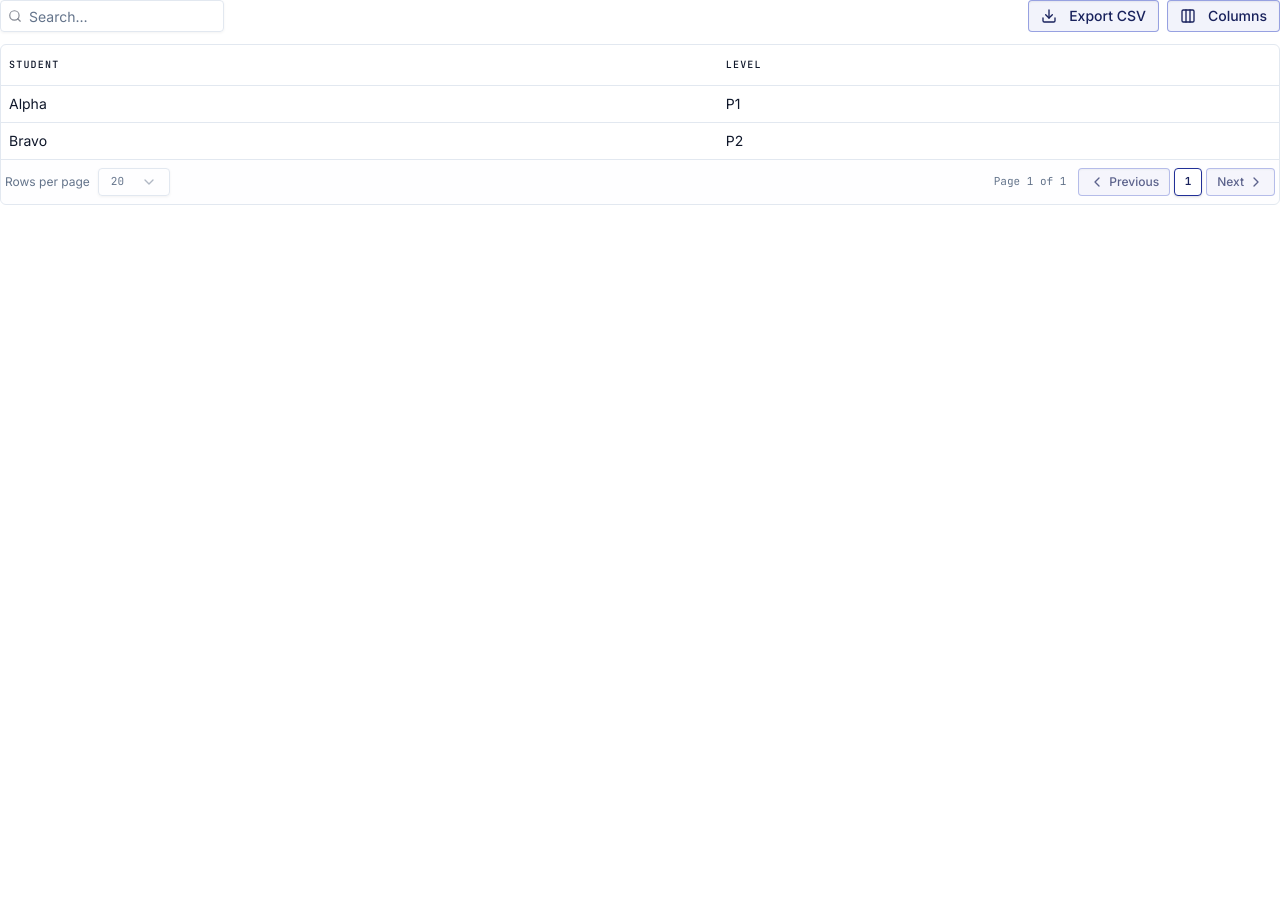
advanced export is opt-in › opens the advanced sheet only when csv.advanced is set
The width and height of the screenshot is (1280, 900).
Click the button "Export CSV": (1094, 16) [1028,0,1159,32]
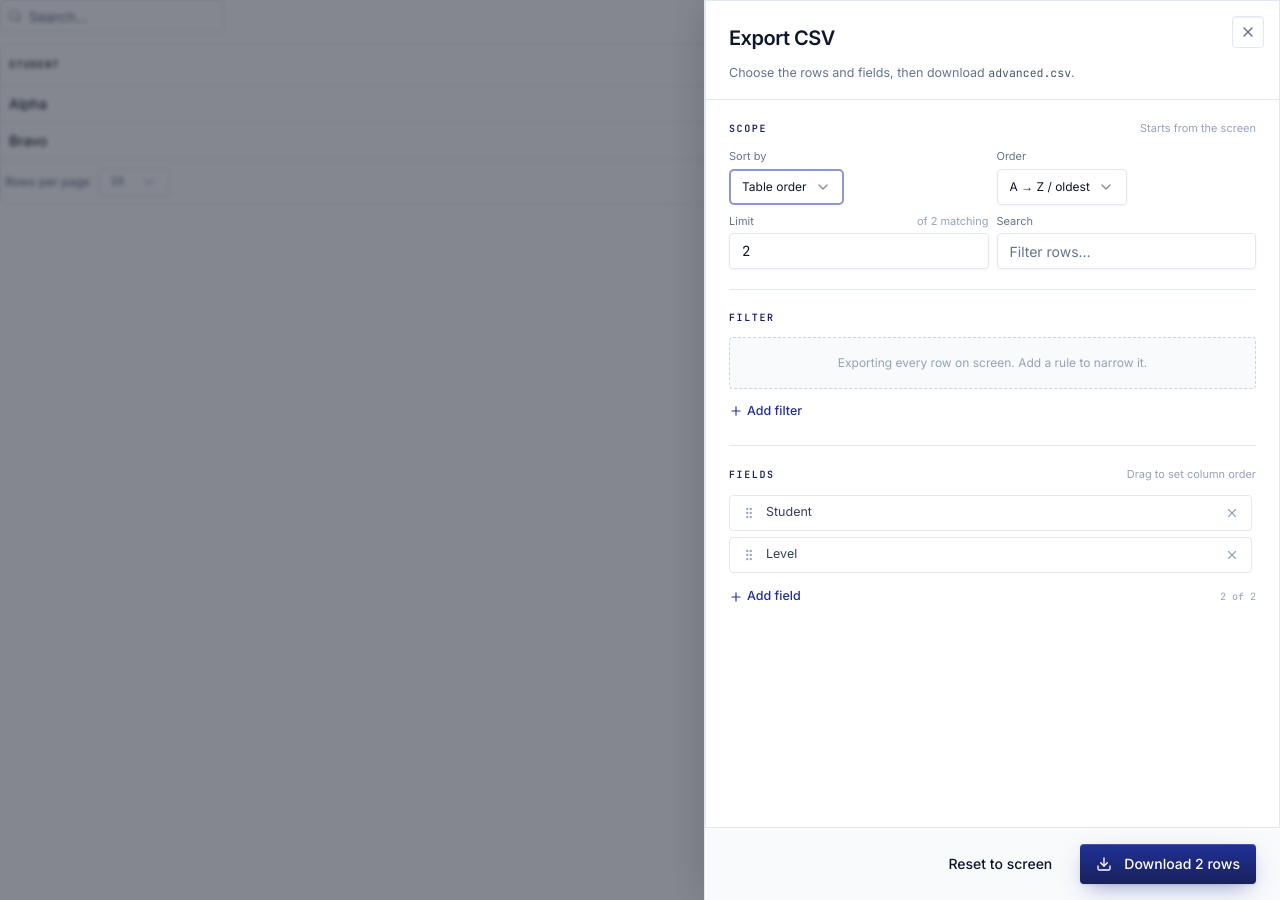
Check: the text "Drag to set column order" is shown, box [1127,466,1256,483]
Check: the button "Add field" is shown, box [729,583,801,611]
